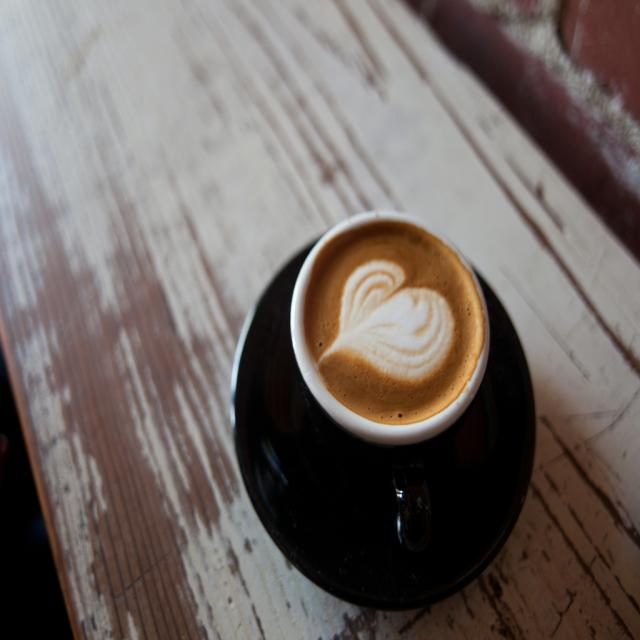Coffee: (291, 212, 489, 438)
